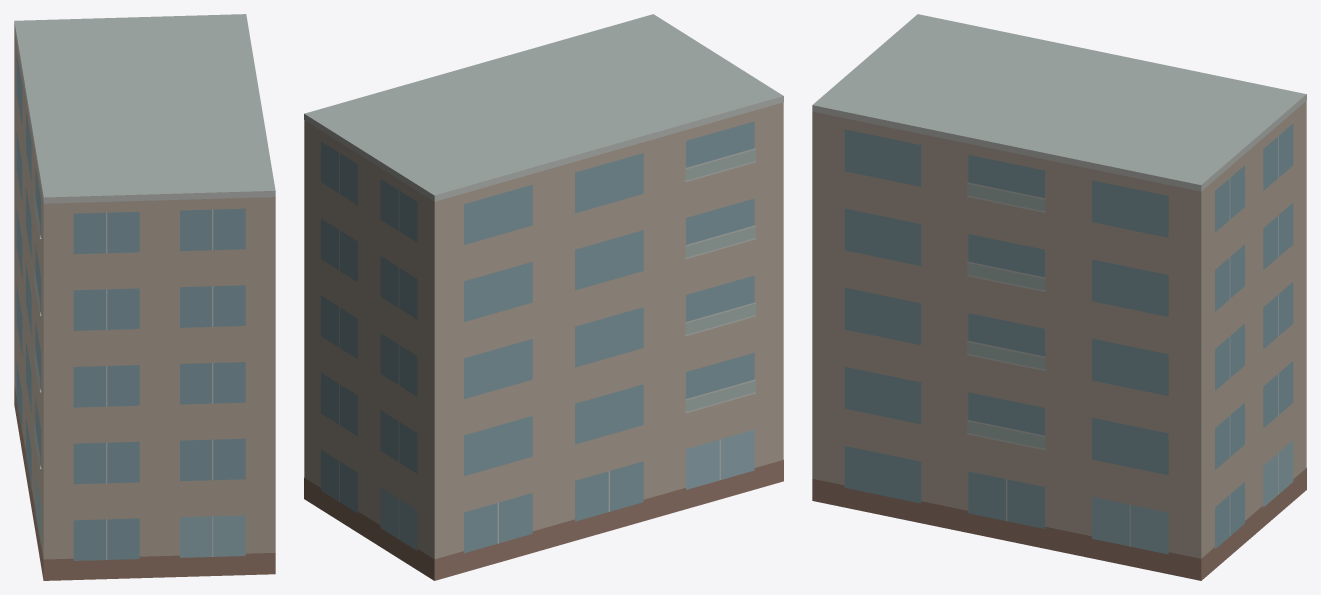
File: survey-upis-32889606.glb
The picture shows the model from 3 angles, left to right: view 1: azimuth 30°, elevation 25°; view 2: azimuth 150°, elevation 25°; view 3: azimuth 270°, elevation 25°; orthographic projection. The views are drawn at different scales.
Visible parts, largest first — view 1: survey-upis-32889606.tmp; view 2: survey-upis-32889606.tmp; view 3: survey-upis-32889606.tmp.
Boxes of the visible parts, box(x1,y1,x2,y2) form: survey-upis-32889606.tmp: box(14, 14, 275, 580); survey-upis-32889606.tmp: box(304, 14, 783, 580); survey-upis-32889606.tmp: box(812, 14, 1306, 580).
Size of the model in its own units: 13.93 by 15 by 17.
